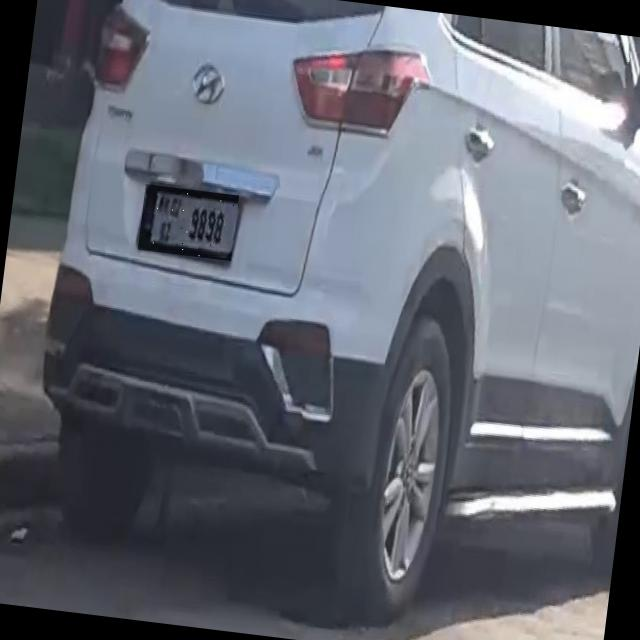Plate: (139, 185, 240, 262)
